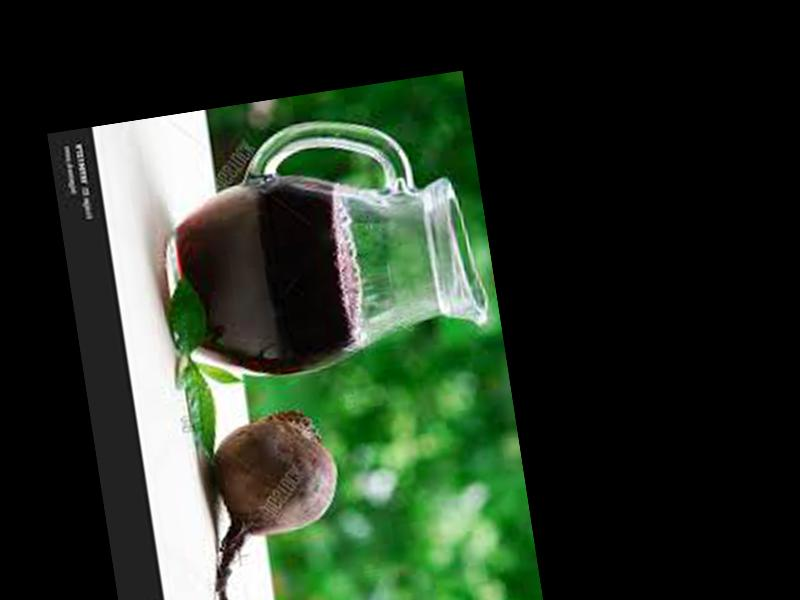Beet: (190, 407, 358, 600)
